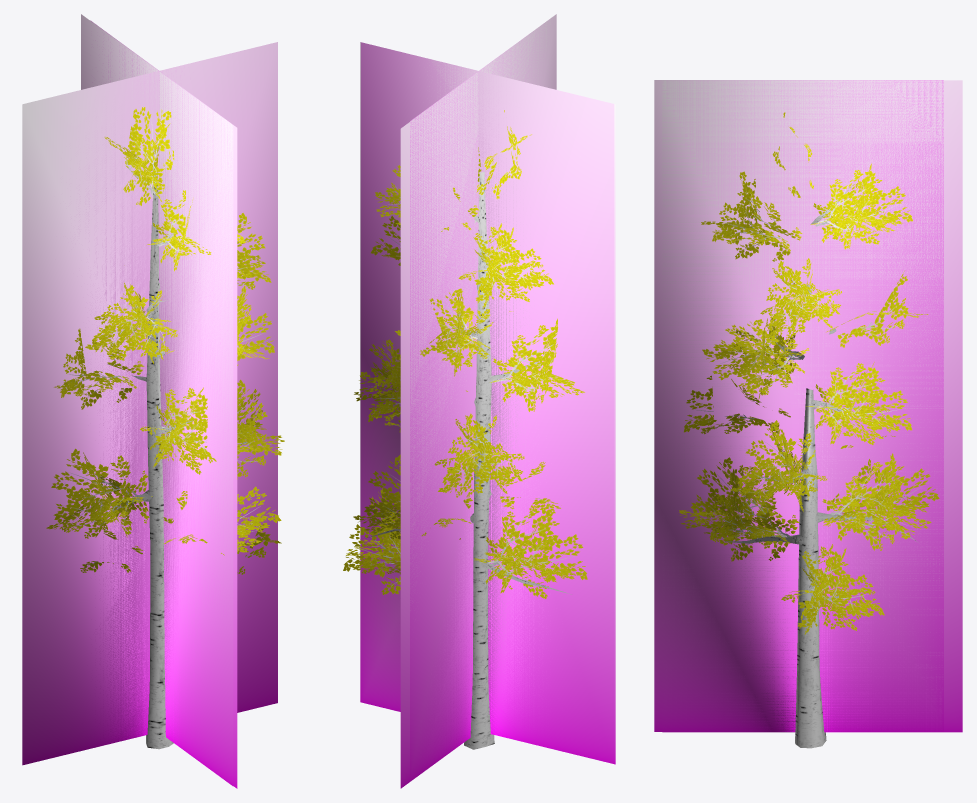
The model's file is FAE_Birch_C.fbx.
3 renders of one model, left to right at view 1: azimuth 30°, elevation 25°; view 2: azimuth 150°, elevation 25°; view 3: azimuth 270°, elevation 25°, orthographic.
Visible parts, largest first — view 1: FAE_Birch_C_Billboard, FAE_Birch_C_LOD0; view 2: FAE_Birch_C_Billboard, FAE_Birch_C_LOD0; view 3: FAE_Birch_C_Billboard, FAE_Birch_C_LOD0.
Boxes of the visible parts, x1=… form: FAE_Birch_C_Billboard: x1=22, y1=14, x2=277, y2=788; FAE_Birch_C_LOD0: x1=46, y1=107, x2=284, y2=749; FAE_Birch_C_Billboard: x1=360, y1=14, x2=615, y2=788; FAE_Birch_C_LOD0: x1=343, y1=110, x2=587, y2=749; FAE_Birch_C_Billboard: x1=654, y1=80, x2=962, y2=732; FAE_Birch_C_LOD0: x1=679, y1=112, x2=939, y2=748.
Size of what is drawn, in the model's own units: 778 by 1858 by 783.
3 materials, 2 textured.
